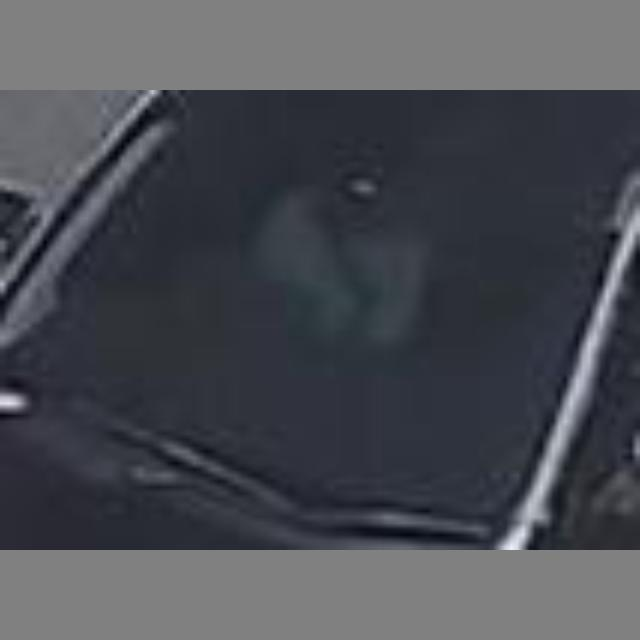pakai: (233, 156, 437, 383)
